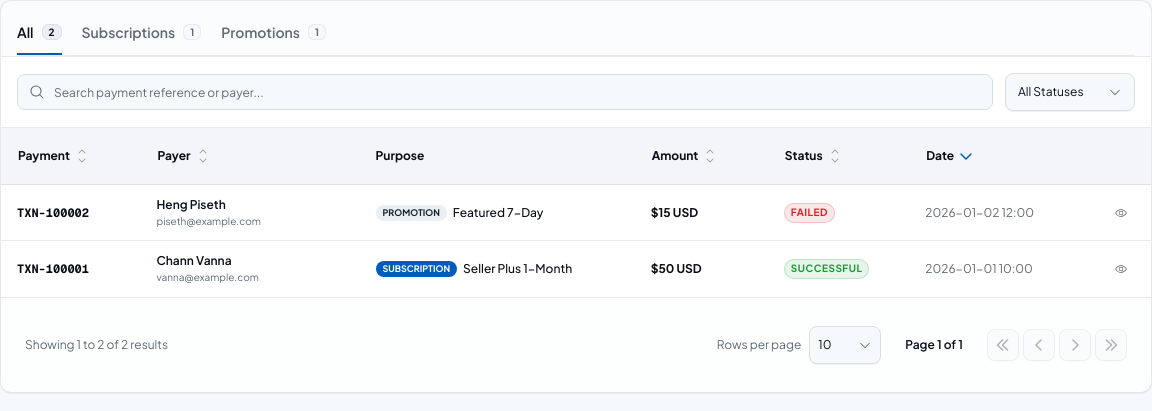
<PaymentTable /> › filters payments when searching by payer name
Type "Chann" into the field with placeholder "Search payment reference or payer...".
click(505, 92); type("Chann")  # box left=17, top=74, right=993, bottom=110
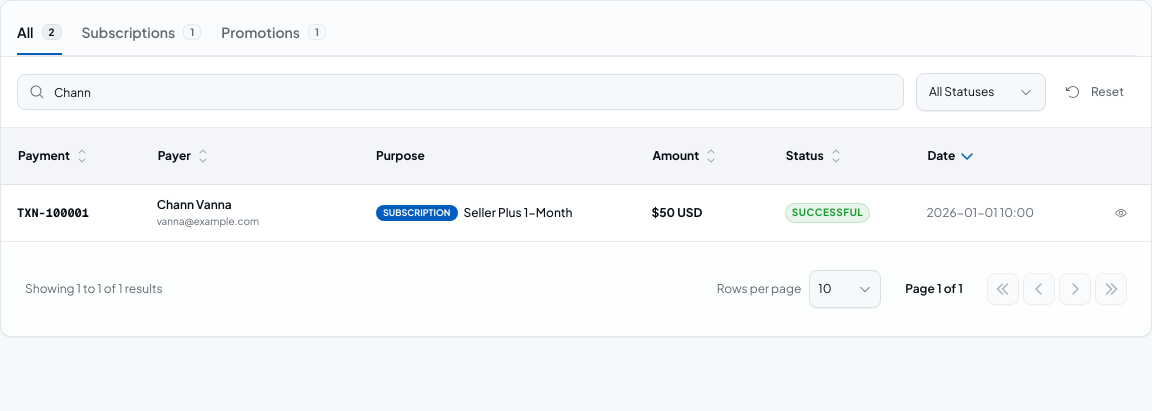
Expected: the link "Chann Vanna" is shown, left=157, top=197, right=232, bottom=212
Expected: no links "Heng Piseth" are shown
